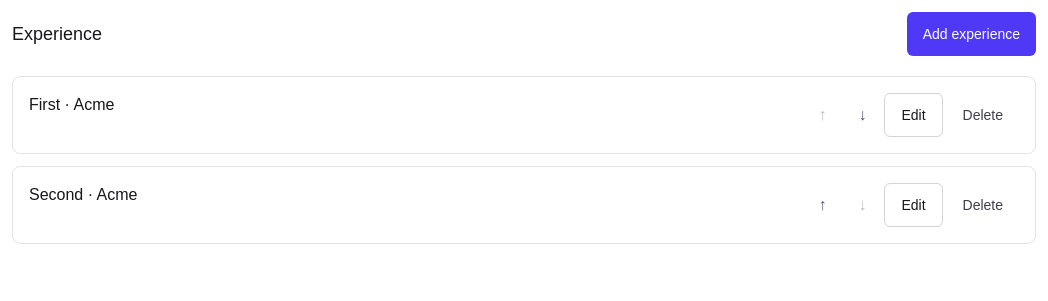
Test: ExperienceEditor › keeps local order on reorder failure
The image size is (1048, 301).
Click the button named "Move First down".
click(862, 115)  # box left=844, top=93, right=880, bottom=137
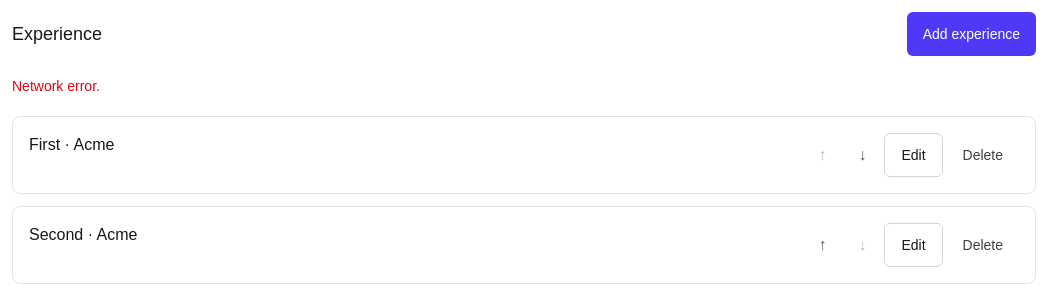
Check: the text "First · Acme" is shown, box left=29, top=133, right=114, bottom=157
Check: the text "Network error." is shown, box left=12, top=78, right=100, bottom=94
